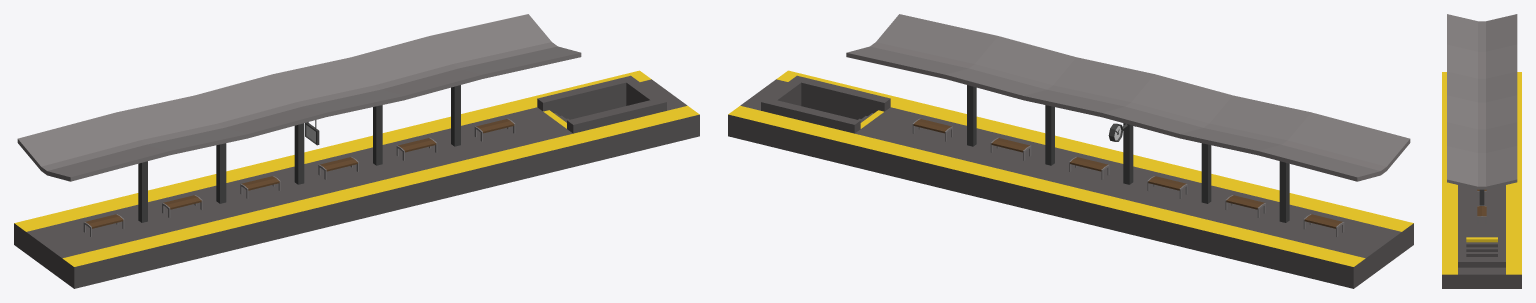
Rendered from train-station-platform-stairs.fbx.
3 views of the same model, side by side, from view 1: azimuth 30°, elevation 25°; view 2: azimuth 150°, elevation 25°; view 3: azimuth 270°, elevation 25° (orthographic). The views are drawn at different scales.
Visible parts, largest first — view 1: train-station-platform-stairs; view 2: train-station-platform-stairs; view 3: train-station-platform-stairs.
Boxes of the visible parts, left/top/right/bottom form: train-station-platform-stairs: left=14, top=14, right=699, bottom=288; train-station-platform-stairs: left=728, top=14, right=1413, bottom=288; train-station-platform-stairs: left=1442, top=14, right=1521, bottom=288.
Bounding box in the file's own units: 30.04 × 5.1 × 5.
